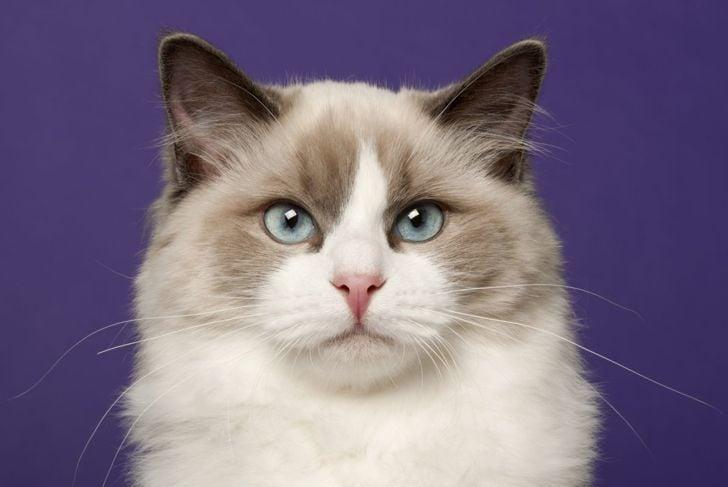ragdoll: (153, 29, 550, 400)
